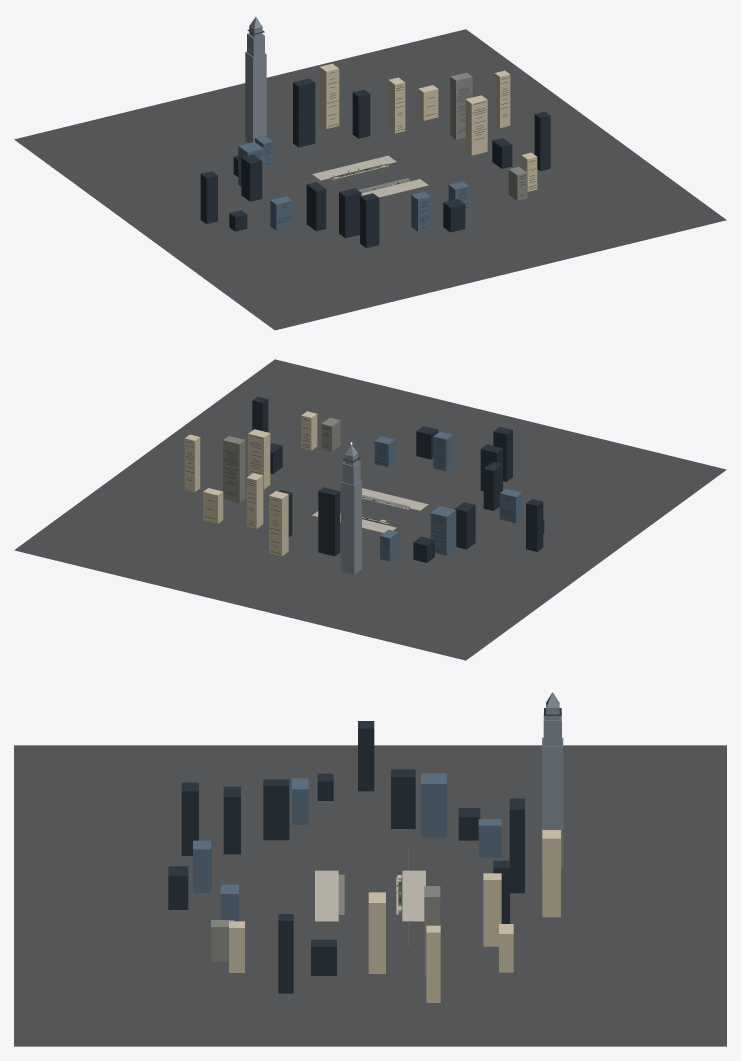
The model's file is gl-outside.glb.
The picture shows the model from 3 angles, top to bottom: view 1: azimuth 30°, elevation 25°; view 2: azimuth 150°, elevation 25°; view 3: azimuth 270°, elevation 25°; orthographic projection. The views are drawn at different scales.
Visible parts, largest first — view 1: gl-outside; view 2: gl-outside; view 3: gl-outside.
Part boxes in pixels (x1=…): gl-outside: x1=14, y1=14, x2=726, y2=330; gl-outside: x1=14, y1=359, x2=726, y2=660; gl-outside: x1=14, y1=689, x2=726, y2=1046.
Size of the model in its own units: 900 by 244 by 900.
